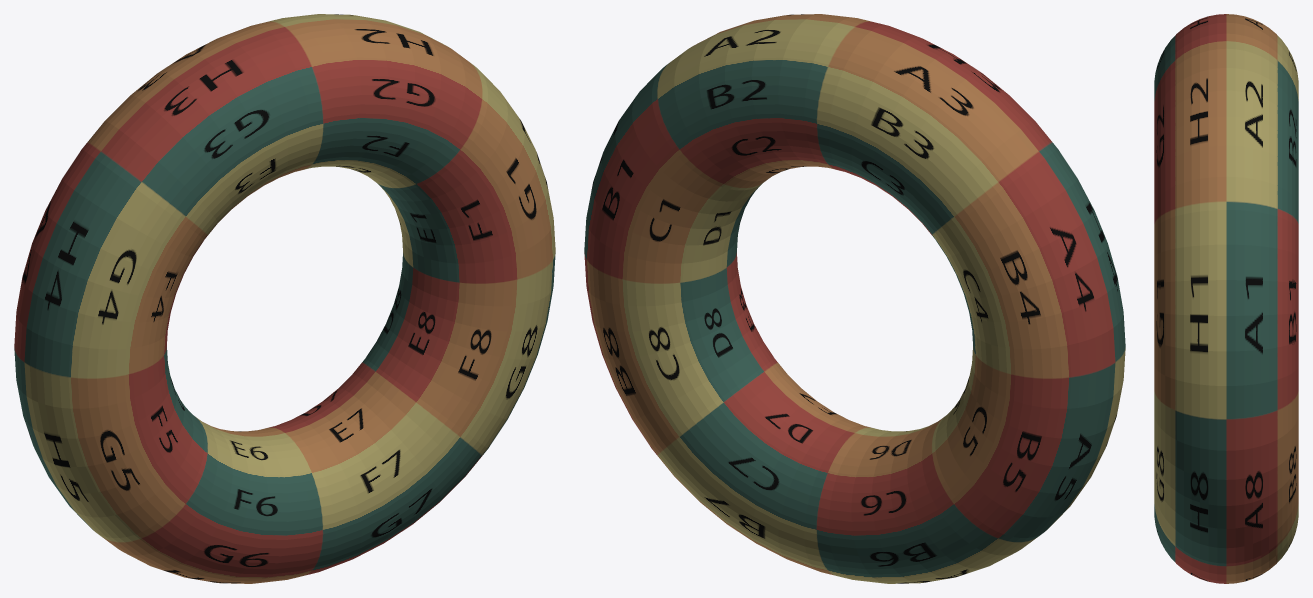
File: texture_torus_R15_r18.glb
3 renders of one model, left to right at view 1: azimuth 30°, elevation 25°; view 2: azimuth 150°, elevation 25°; view 3: azimuth 270°, elevation 25°, orthographic. The views are drawn at different scales.
Visible parts, largest first — view 1: world; view 2: world; view 3: world.
Part boxes in pixels (x1,y1,x2,y2): world: [14, 14, 555, 583]; world: [584, 14, 1125, 583]; world: [1154, 14, 1298, 583].
Bounding box in the file's own units: 26.8 × 26.75 × 6.79.
Materials: 1 (1 with a texture image).
